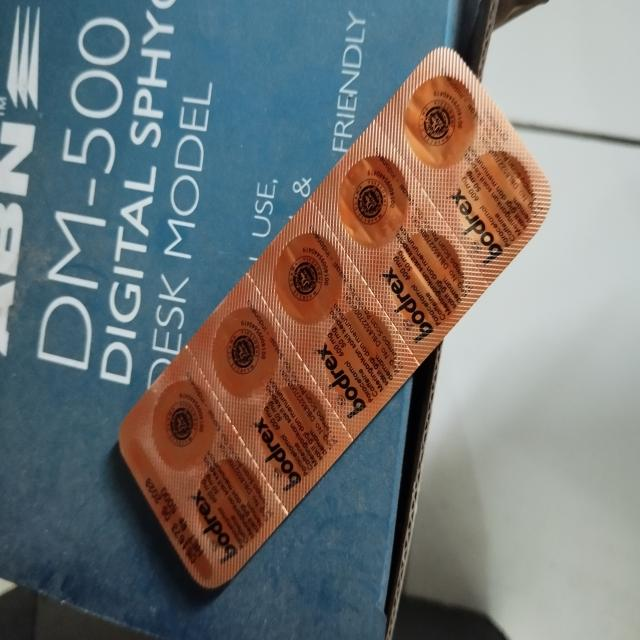B3: (117, 43, 552, 587)
